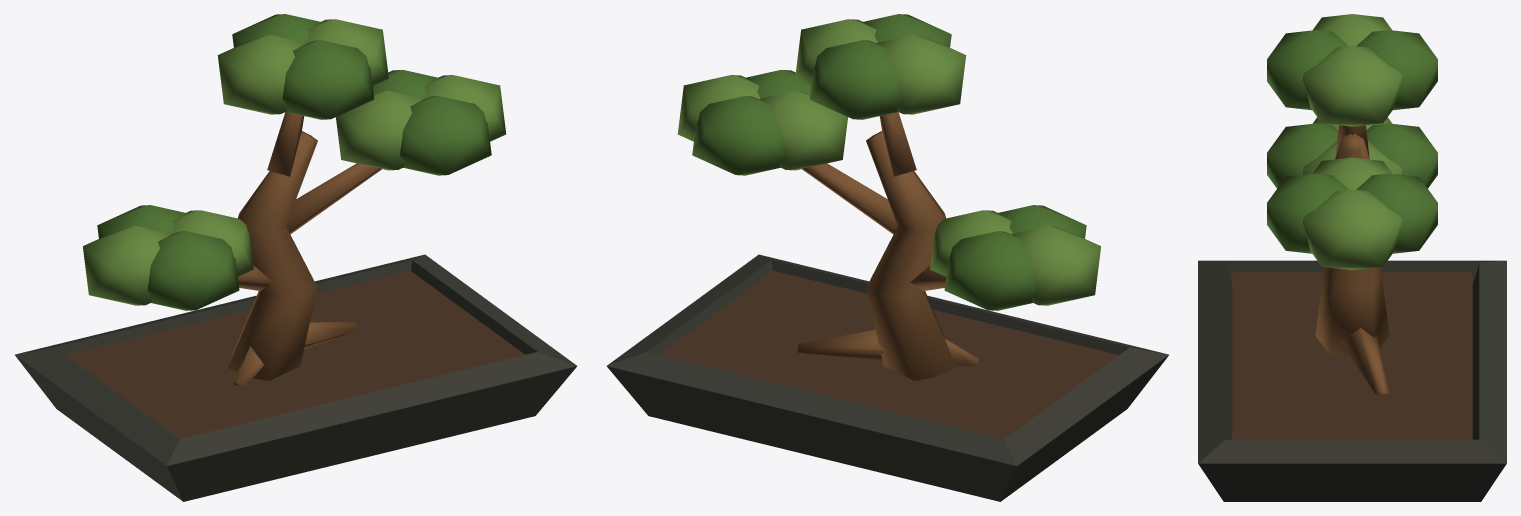
File: bonsai.glb
The picture shows the model from 3 angles, left to right: view 1: azimuth 30°, elevation 25°; view 2: azimuth 150°, elevation 25°; view 3: azimuth 270°, elevation 25°; orthographic projection.
Visible parts, largest first — view 1: bonsai_tray, bonsai_soil, bonsai_twisting_trunk, bonsai_canopy_2_3, bonsai_canopy_0_3, bonsai_canopy_1_3, bonsai_canopy_0_2, bonsai_canopy_2_2, bonsai_canopy_1_2, bonsai_canopy_2_0, bonsai_canopy_1_0, bonsai_canopy_0_0 (+7 smaller); view 2: bonsai_tray, bonsai_soil, bonsai_twisting_trunk, bonsai_canopy_2_1, bonsai_canopy_0_1, bonsai_canopy_1_1, bonsai_canopy_0_2, bonsai_canopy_2_2, bonsai_canopy_1_2, bonsai_canopy_2_0, bonsai_canopy_1_0, bonsai_canopy_0_0 (+6 smaller); view 3: bonsai_soil, bonsai_tray, bonsai_canopy_2_0, bonsai_canopy_1_0, bonsai_twisting_trunk, bonsai_canopy_1_1, bonsai_canopy_1_3, bonsai_canopy_2_1, bonsai_canopy_2_3, bonsai_canopy_0_1, bonsai_canopy_0_3, bonsai_root_1 (+4 smaller).
Part boxes in pixels (x1,y1,x2,y2): bonsai_tray: [15, 254, 577, 501]; bonsai_soil: [65, 270, 524, 438]; bonsai_twisting_trunk: [227, 131, 317, 380]; bonsai_canopy_2_3: [282, 40, 374, 119]; bonsai_canopy_0_3: [147, 231, 239, 310]; bonsai_canopy_1_3: [400, 96, 491, 175]; bonsai_canopy_0_2: [83, 226, 171, 305]; bonsai_canopy_2_2: [217, 35, 306, 114]; bonsai_canopy_1_2: [336, 90, 423, 170]; bonsai_canopy_2_0: [306, 19, 388, 85]; bonsai_canopy_1_0: [423, 75, 506, 141]; bonsai_canopy_0_0: [171, 210, 253, 276]; bonsai_tray: [606, 254, 1168, 501]; bonsai_soil: [659, 270, 1118, 438]; bonsai_twisting_trunk: [866, 131, 956, 380]; bonsai_canopy_2_1: [809, 40, 901, 119]; bonsai_canopy_0_1: [944, 231, 1036, 310]; bonsai_canopy_1_1: [692, 96, 783, 175]; bonsai_canopy_0_2: [1012, 226, 1100, 305]; bonsai_canopy_2_2: [877, 35, 966, 114]; bonsai_canopy_1_2: [760, 90, 847, 170]; bonsai_canopy_2_0: [795, 19, 877, 85]; bonsai_canopy_1_0: [677, 75, 760, 141]; bonsai_canopy_0_0: [930, 210, 1012, 276]; bonsai_soil: [1232, 272, 1472, 439]; bonsai_tray: [1198, 260, 1506, 501]; bonsai_canopy_2_0: [1303, 46, 1401, 126]; bonsai_canopy_1_0: [1303, 189, 1401, 270]; bonsai_twisting_trunk: [1315, 133, 1389, 354]; bonsai_canopy_1_1: [1356, 173, 1437, 253]; bonsai_canopy_1_3: [1267, 173, 1348, 253]; bonsai_canopy_2_1: [1356, 30, 1437, 110]; bonsai_canopy_2_3: [1267, 30, 1348, 110]; bonsai_canopy_0_1: [1366, 123, 1437, 188]; bonsai_canopy_0_3: [1267, 123, 1338, 188]; bonsai_root_1: [1341, 328, 1389, 394].
Size of the model in its own units: 0.2812 by 0.25 by 0.18.
